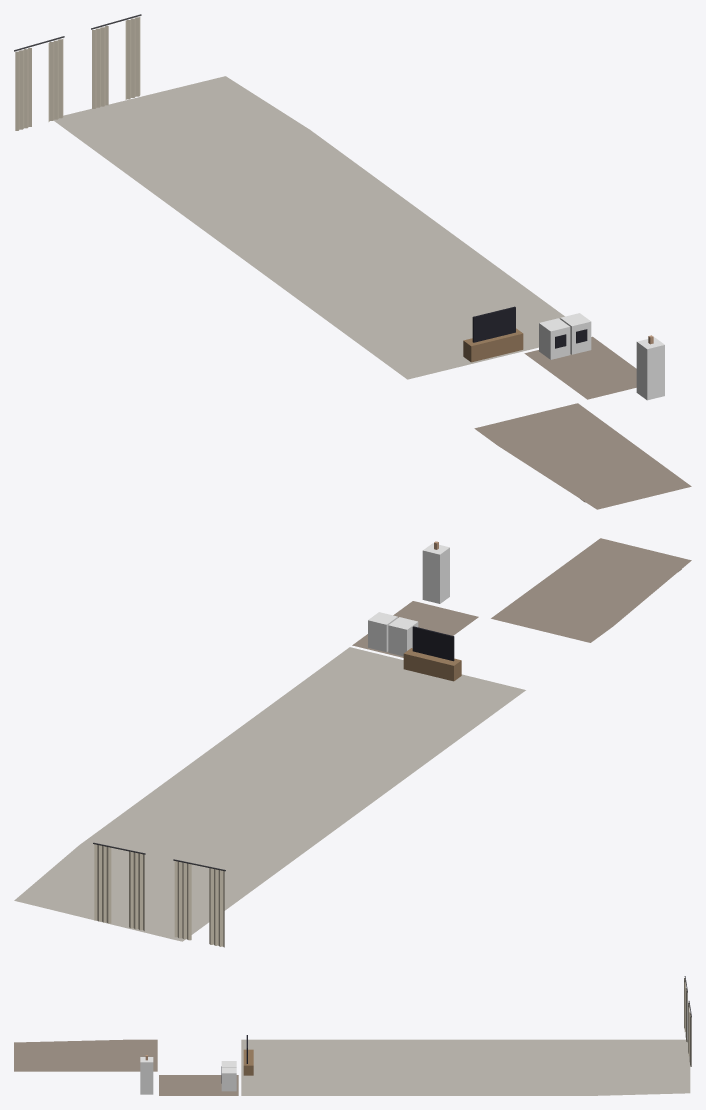
The model's file is fine-s0.glb.
3 views of the same model, one above another, from view 1: azimuth 30°, elevation 25°; view 2: azimuth 150°, elevation 25°; view 3: azimuth 270°, elevation 25° (orthographic). The views are drawn at different scales.
Parts seen in each view (by area): view 1: soft-s0, tv-console.000, water-heater.000, washer.000, washer.001; view 2: soft-s0, tv-console.000, water-heater.000, washer.000, washer.001; view 3: soft-s0, water-heater.000, washer.001, tv-console.000.
Part boxes in pixels (box(x1,y1,x2,y2)): soft-s0: box(14, 14, 691, 509); tv-console.000: box(463, 306, 523, 362); water-heater.000: box(636, 335, 664, 400); washer.000: box(539, 318, 570, 359); washer.001: box(560, 313, 591, 354); soft-s0: box(14, 538, 691, 947); tv-console.000: box(403, 626, 461, 681); water-heater.000: box(422, 541, 449, 603); washer.000: box(388, 617, 418, 656); washer.001: box(368, 612, 397, 652); soft-s0: box(14, 976, 691, 1095); water-heater.000: box(140, 1055, 153, 1094); washer.001: box(221, 1067, 236, 1091); tv-console.000: box(243, 1035, 253, 1075).
Size of the model in its own units: 6.86 by 2.4 by 28.61.
